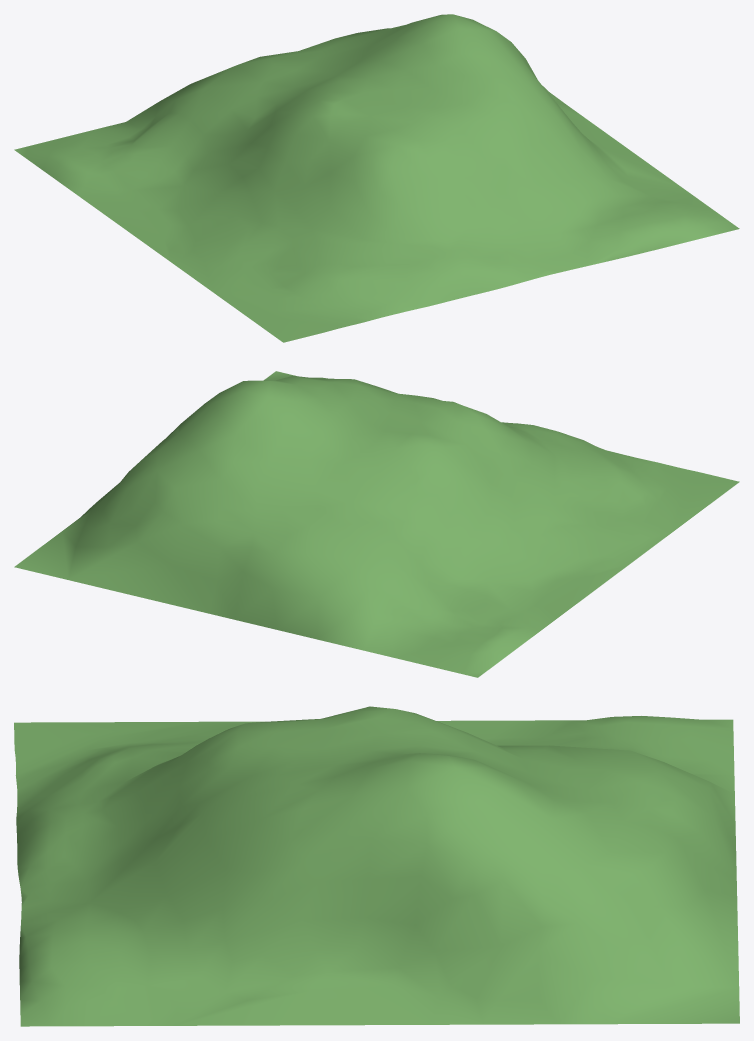
Rendered from SM_Hills_02.obj.
3 views of the same model, one above another, from view 1: azimuth 30°, elevation 25°; view 2: azimuth 150°, elevation 25°; view 3: azimuth 270°, elevation 25° (orthographic). The views are drawn at different scales.
Visible parts, largest first — view 1: SM_Hills_02; view 2: SM_Hills_02; view 3: SM_Hills_02.
Boxes of the visible parts, x1=… form: SM_Hills_02: x1=14, y1=14, x2=739, y2=342; SM_Hills_02: x1=14, y1=371, x2=739, y2=677; SM_Hills_02: x1=14, y1=706, x2=739, y2=1026.
Size of the model in its own units: 18.27 by 4.84 by 18.27.
1 material, 1 textured.
